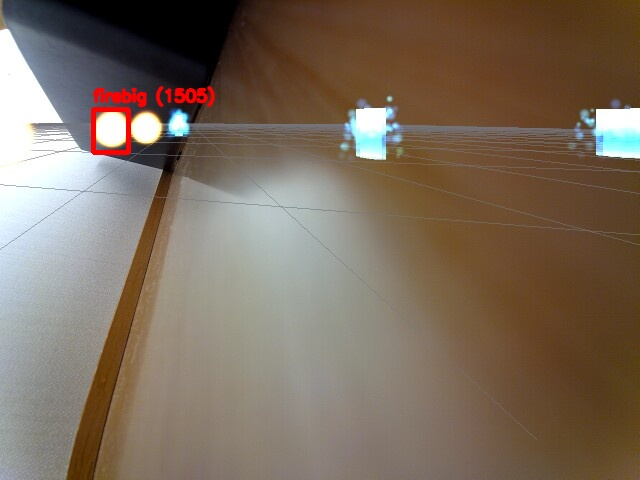firebig: (93, 109, 128, 152)
